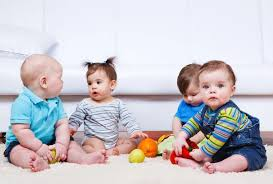child: (190, 61, 269, 173), (10, 53, 78, 168), (77, 57, 146, 165), (161, 60, 205, 163)
